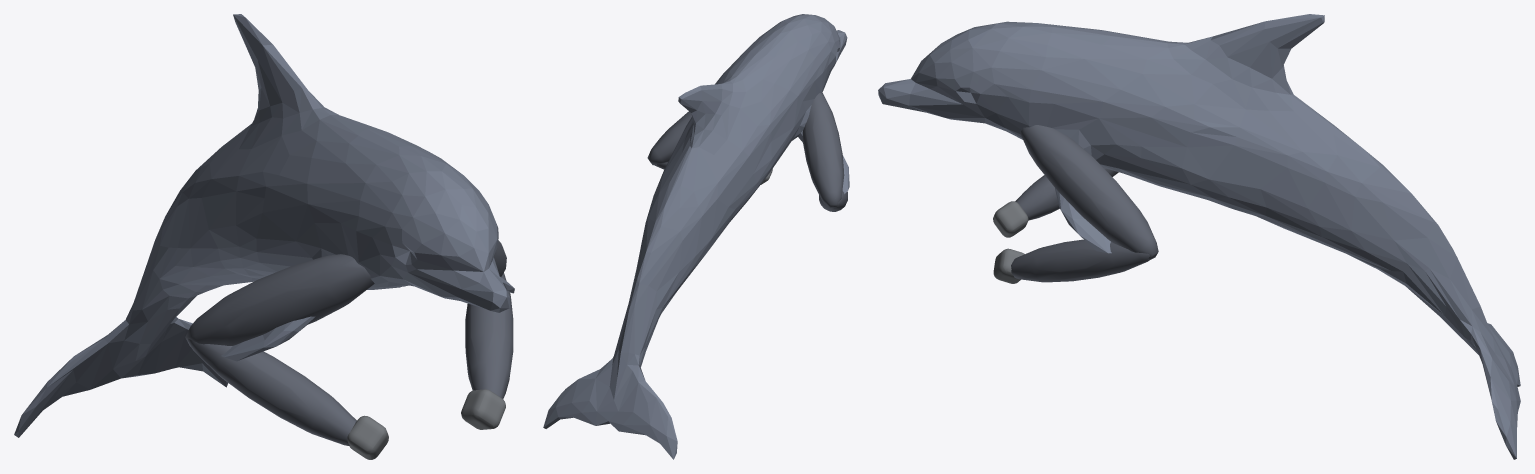
The model's file is dolphin1.glb.
3 views of the same model, side by side, from view 1: azimuth 30°, elevation 25°; view 2: azimuth 150°, elevation 25°; view 3: azimuth 270°, elevation 25° (orthographic). The views are drawn at different scales.
Visible parts, largest first — view 1: dolphin.002; view 2: dolphin.002; view 3: dolphin.002.
Boxes of the visible parts, left/top/right/bottom form: dolphin.002: left=14, top=14, right=514, bottom=459; dolphin.002: left=543, top=14, right=849, bottom=459; dolphin.002: left=878, top=14, right=1520, bottom=459.
Bounding box in the file's own units: 1.34 × 2.01 × 2.89.
